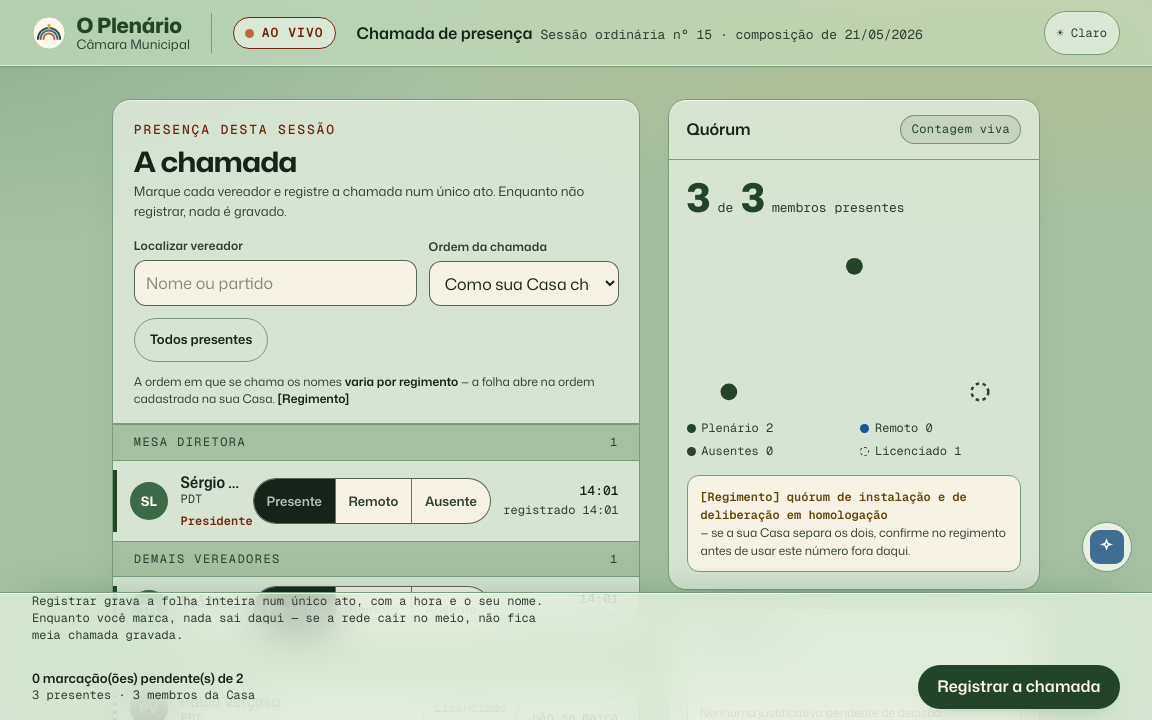
Scenario: PaginaChamada — a Clara (ADR-0024, fatia 5) › a secretaria tem a Clara, recolhida; aberta, mostra a sessão desta tela (fatia 6)
Click the button named "Pergunte à Clara". click: (1107, 547)
box: [1082,522,1132,572]
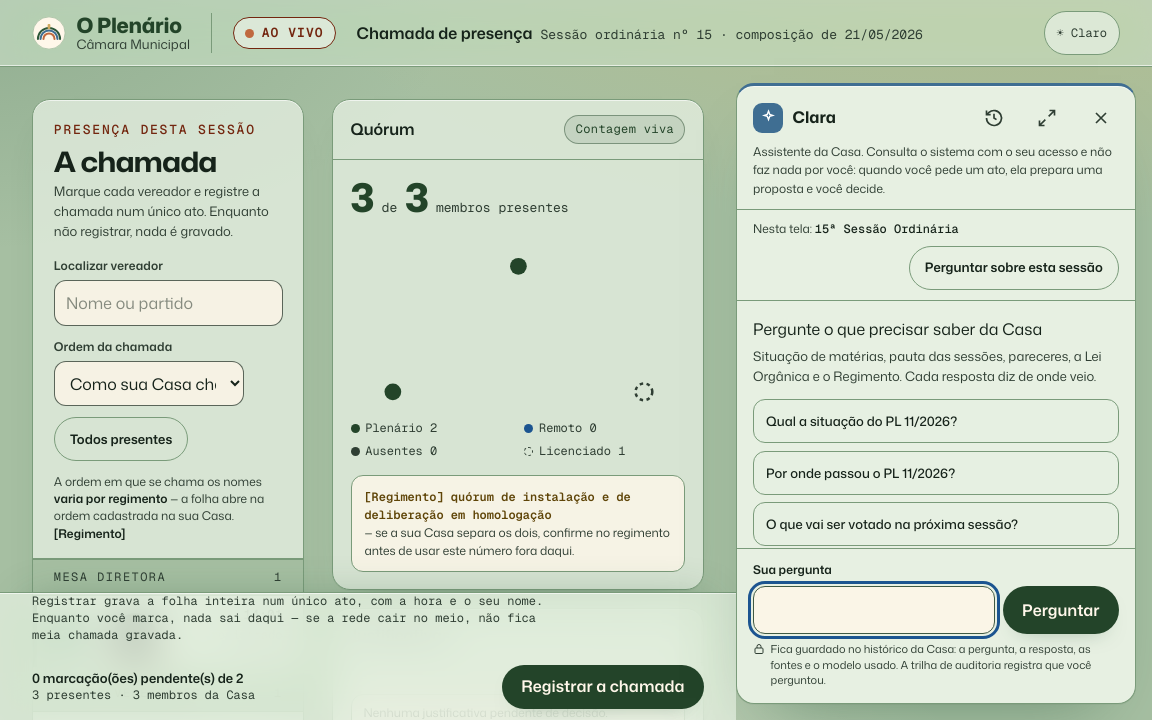
Expected: the element with class "ast" shows "Nesta tela: 15ª Sessão Ordinária", [736,83,1136,704]
